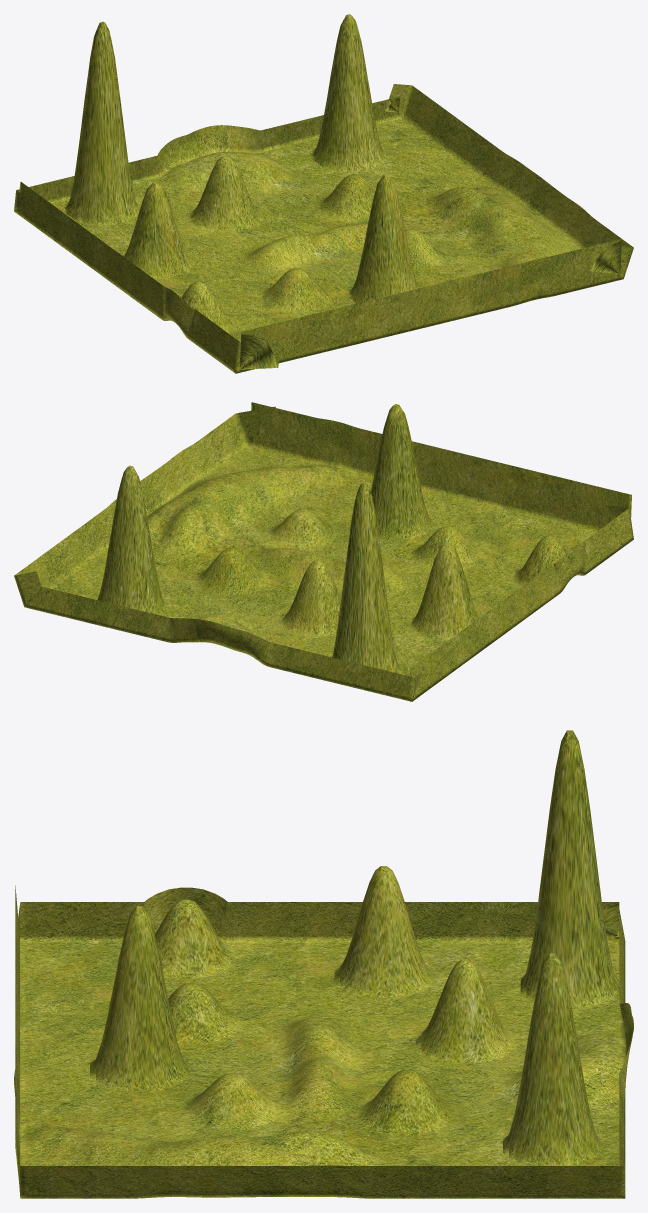
File: wld.dae
The picture shows the model from 3 angles, top to bottom: view 1: azimuth 30°, elevation 25°; view 2: azimuth 150°, elevation 25°; view 3: azimuth 270°, elevation 25°; orthographic projection. The views are drawn at different scales.
Parts seen in each view (by area): view 1: Plane; view 2: Plane; view 3: Plane.
Part boxes in pixels (x1,y1,x2,y2): Plane: (14, 14, 633, 373); Plane: (14, 402, 633, 701); Plane: (14, 730, 633, 1198).
Size of the model in its own units: 13.62 by 13.25 by 6.09.
1 material, 1 textured.
